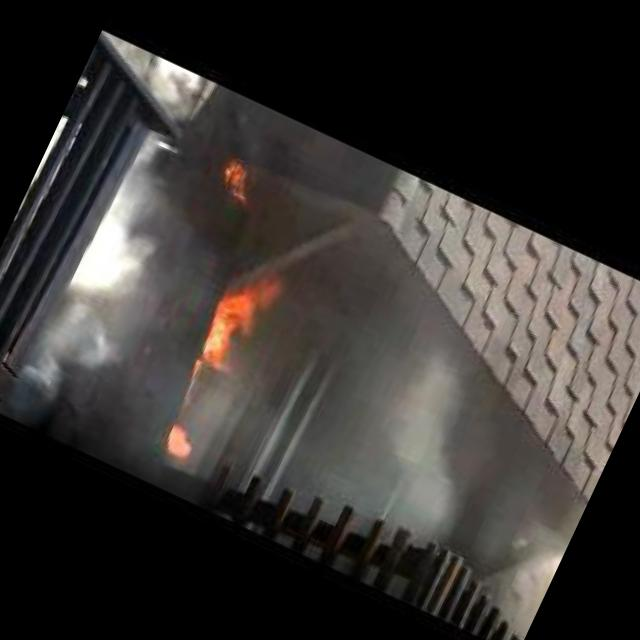fire: (140, 244, 292, 478), (215, 157, 258, 209)
smoke: (5, 127, 208, 422), (329, 324, 528, 566)
